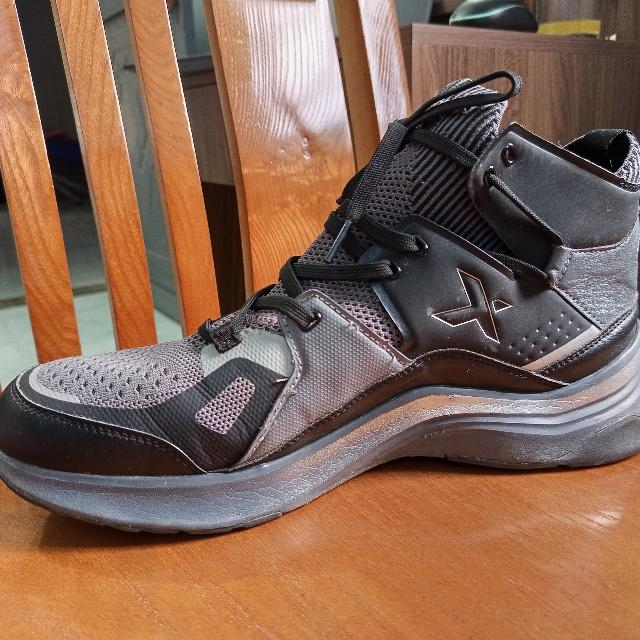broken: (346, 318, 362, 332)
